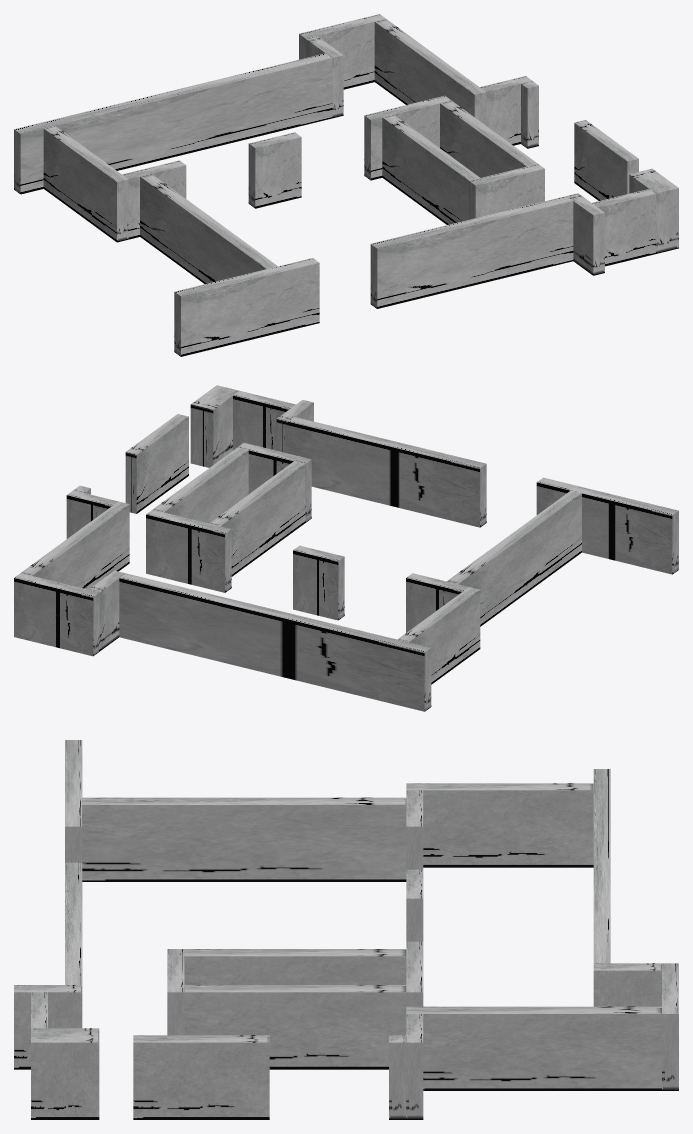
File: koujou_kari.obj
3 views of the same model, one above another, from view 1: azimuth 30°, elevation 25°; view 2: azimuth 150°, elevation 25°; view 3: azimuth 270°, elevation 25° (orthographic). The views are drawn at different scales.
Visible parts, largest first — view 1: pCube6, pCube19, pCube21, pCube22, pCube7, pCube13, pCube3, pCube14, pCube15, pCube10, pCube17, pCube1 (+8 smaller); view 2: pCube6, pCube19, pCube22, pCube21, pCube1, pCube11, pCube13, pCube3, pCube15, pCube7, pCube14, pCube10 (+7 smaller); view 3: pCube22, pCube3, pCube14, pCube7, pCube15, pCube13, pCube16, pCube6, pCube18, pCube2, pCube21, pCube19 (+8 smaller).
Part boxes in pixels (x1=…): pCube6: x1=14, y1=53, x2=332, y2=194; pCube19: x1=370, y1=196, x2=573, y2=308; pCube21: x1=174, y1=258, x2=319, y2=356; pCube22: x1=140, y1=173, x2=277, y2=283; pCube7: x1=43, y1=126, x2=128, y2=242; pCube13: x1=382, y1=114, x2=479, y2=224; pCube3: x1=374, y1=19, x2=486, y2=125; pCube14: x1=440, y1=100, x2=537, y2=177; pCube15: x1=574, y1=120, x2=638, y2=200; pCube10: x1=248, y1=132, x2=301, y2=208; pCube17: x1=592, y1=189, x2=655, y2=266; pCube1: x1=299, y1=14, x2=385, y2=89; pCube6: x1=119, y1=573, x2=431, y2=711; pCube19: x1=288, y1=417, x2=486, y2=527; pCube22: x1=447, y1=490, x2=581, y2=626; pCube21: x1=536, y1=477, x2=678, y2=574; pCube1: x1=14, y1=573, x2=99, y2=656; pCube11: x1=146, y1=509, x2=231, y2=592; pCube13: x1=209, y1=461, x2=305, y2=576; pCube3: x1=21, y1=501, x2=129, y2=589; pCube15: x1=125, y1=414, x2=188, y2=513; pCube7: x1=397, y1=587, x2=480, y2=684; pCube14: x1=153, y1=447, x2=248, y2=523; pCube10: x1=293, y1=545, x2=344, y2=620; pCube22: x1=82, y1=797, x2=406, y2=881; pCube3: x1=406, y1=1006, x2=661, y2=1090; pCube14: x1=184, y1=985, x2=406, y2=1069; pCube7: x1=406, y1=783, x2=593, y2=867; pCube15: x1=133, y1=1035, x2=269, y2=1119; pCube13: x1=184, y1=949, x2=406, y2=984; pCube16: x1=31, y1=1028, x2=99, y2=1119; pCube6: x1=593, y1=769, x2=610, y2=963; pCube18: x1=14, y1=985, x2=82, y2=1069; pCube2: x1=593, y1=963, x2=661, y2=1006; pCube21: x1=65, y1=740, x2=82, y2=862; pCube19: x1=65, y1=862, x2=82, y2=984.
Size of the model in its own units: 42 by 5 by 39.
